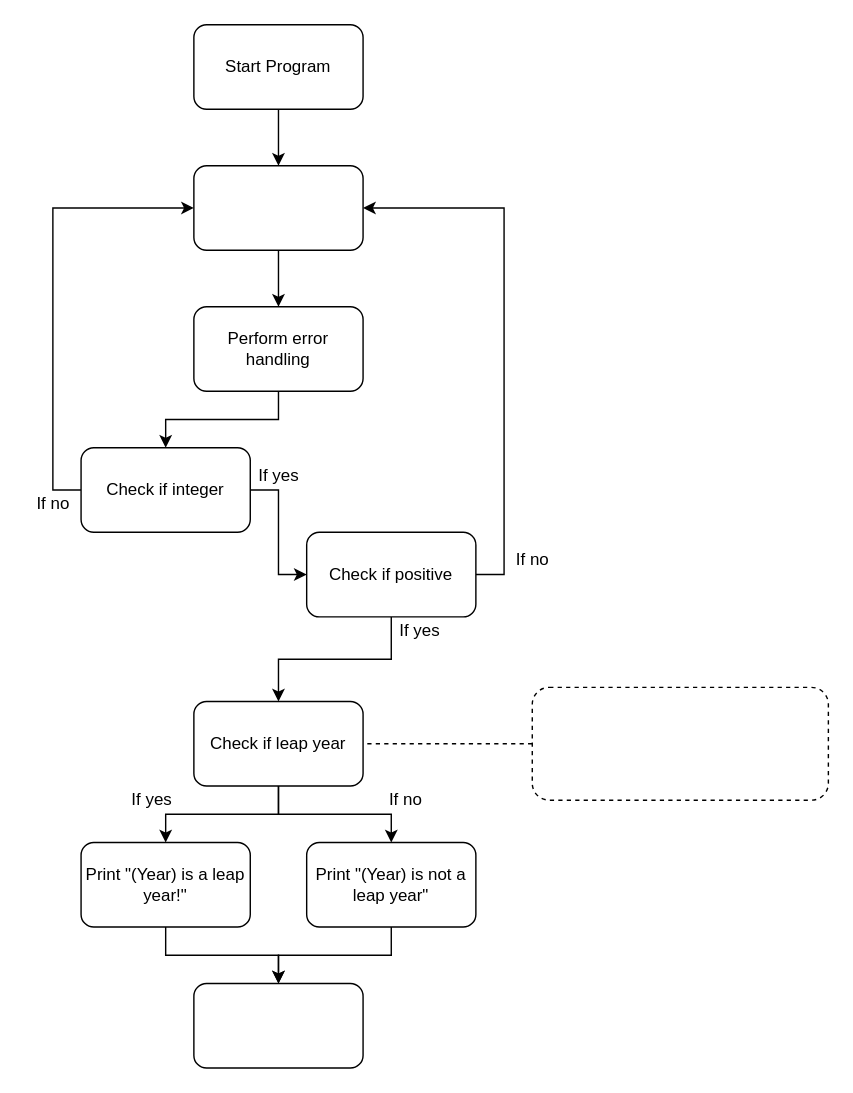
The diagram is 853 pixels wide and 1093 high, and some of its shapes have lost their labels. The centre of each missing label's shape, as x and y in pixels:
"Divisible by 4 Not evenly divisible by 100 Unless also divisible by 400" belongs at point (679, 743).
"End program" belongs at point (277, 1025).
"Get User input" belongs at point (277, 207).
